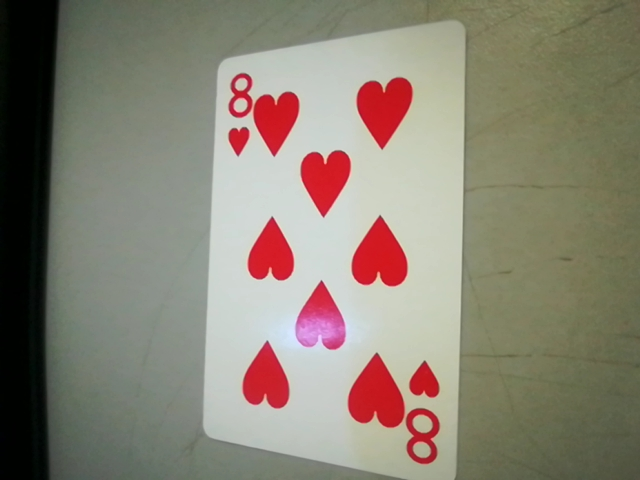hx 8: (400, 359, 453, 475), (215, 67, 260, 158)
